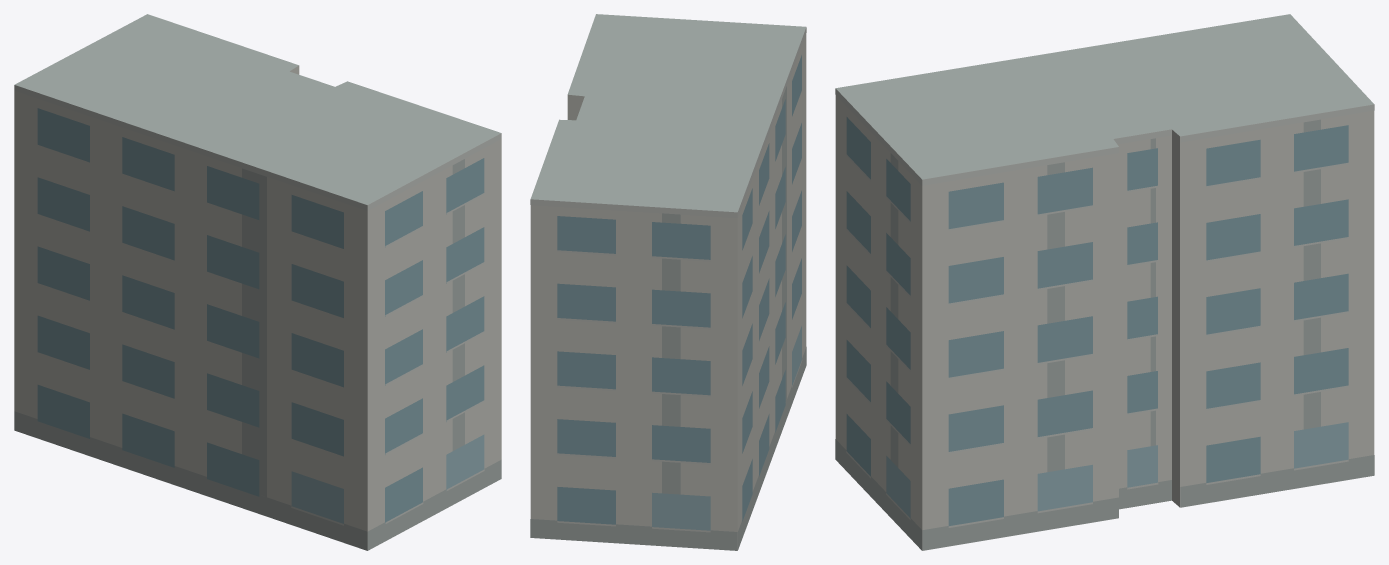
The model's file is survey-upis-32888774.glb.
The picture shows the model from 3 angles, left to right: view 1: azimuth 30°, elevation 25°; view 2: azimuth 150°, elevation 25°; view 3: azimuth 270°, elevation 25°; orthographic projection. The views are drawn at different scales.
Parts seen in each view (by area): view 1: survey-upis-32888774.tmp; view 2: survey-upis-32888774.tmp; view 3: survey-upis-32888774.tmp.
Boxes of the visible parts, bbox=[...] form: survey-upis-32888774.tmp: bbox=[14, 14, 501, 550]; survey-upis-32888774.tmp: bbox=[530, 14, 806, 550]; survey-upis-32888774.tmp: bbox=[835, 14, 1374, 550].
Bounding box in the file's own units: 13.69 × 14.3 × 18.83.
